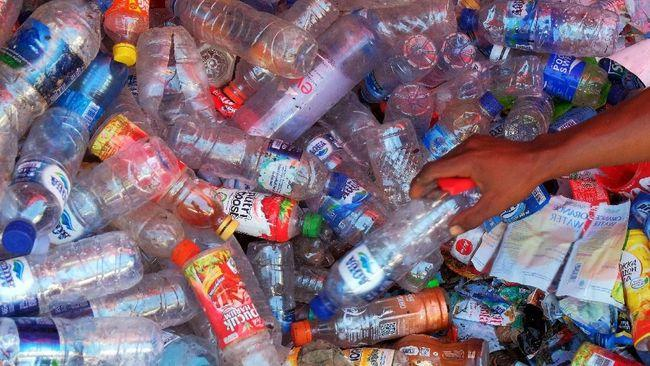HDPE: (1, 219, 39, 258), (307, 293, 336, 323), (477, 89, 504, 118), (289, 319, 314, 347), (325, 170, 347, 199), (302, 210, 323, 240), (215, 215, 239, 241), (112, 40, 136, 66), (457, 6, 479, 32)
PETE: (221, 16, 383, 141), (324, 184, 478, 310), (87, 111, 226, 231), (46, 134, 184, 249), (0, 0, 103, 142), (167, 115, 334, 201), (160, 0, 321, 81), (0, 229, 147, 316), (0, 105, 92, 238), (180, 246, 280, 366), (308, 284, 455, 350), (0, 314, 165, 366), (480, 0, 622, 59), (359, 32, 437, 106)
PP: (465, 194, 633, 303)
